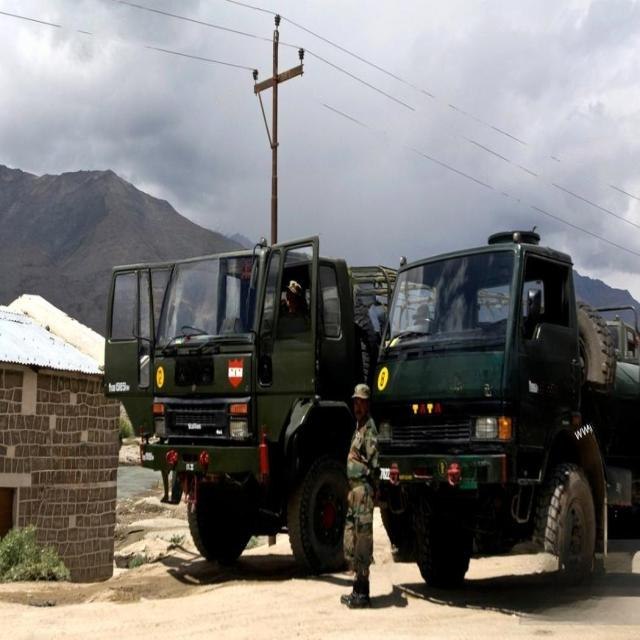truck: (105, 236, 394, 572), (374, 232, 640, 587)
